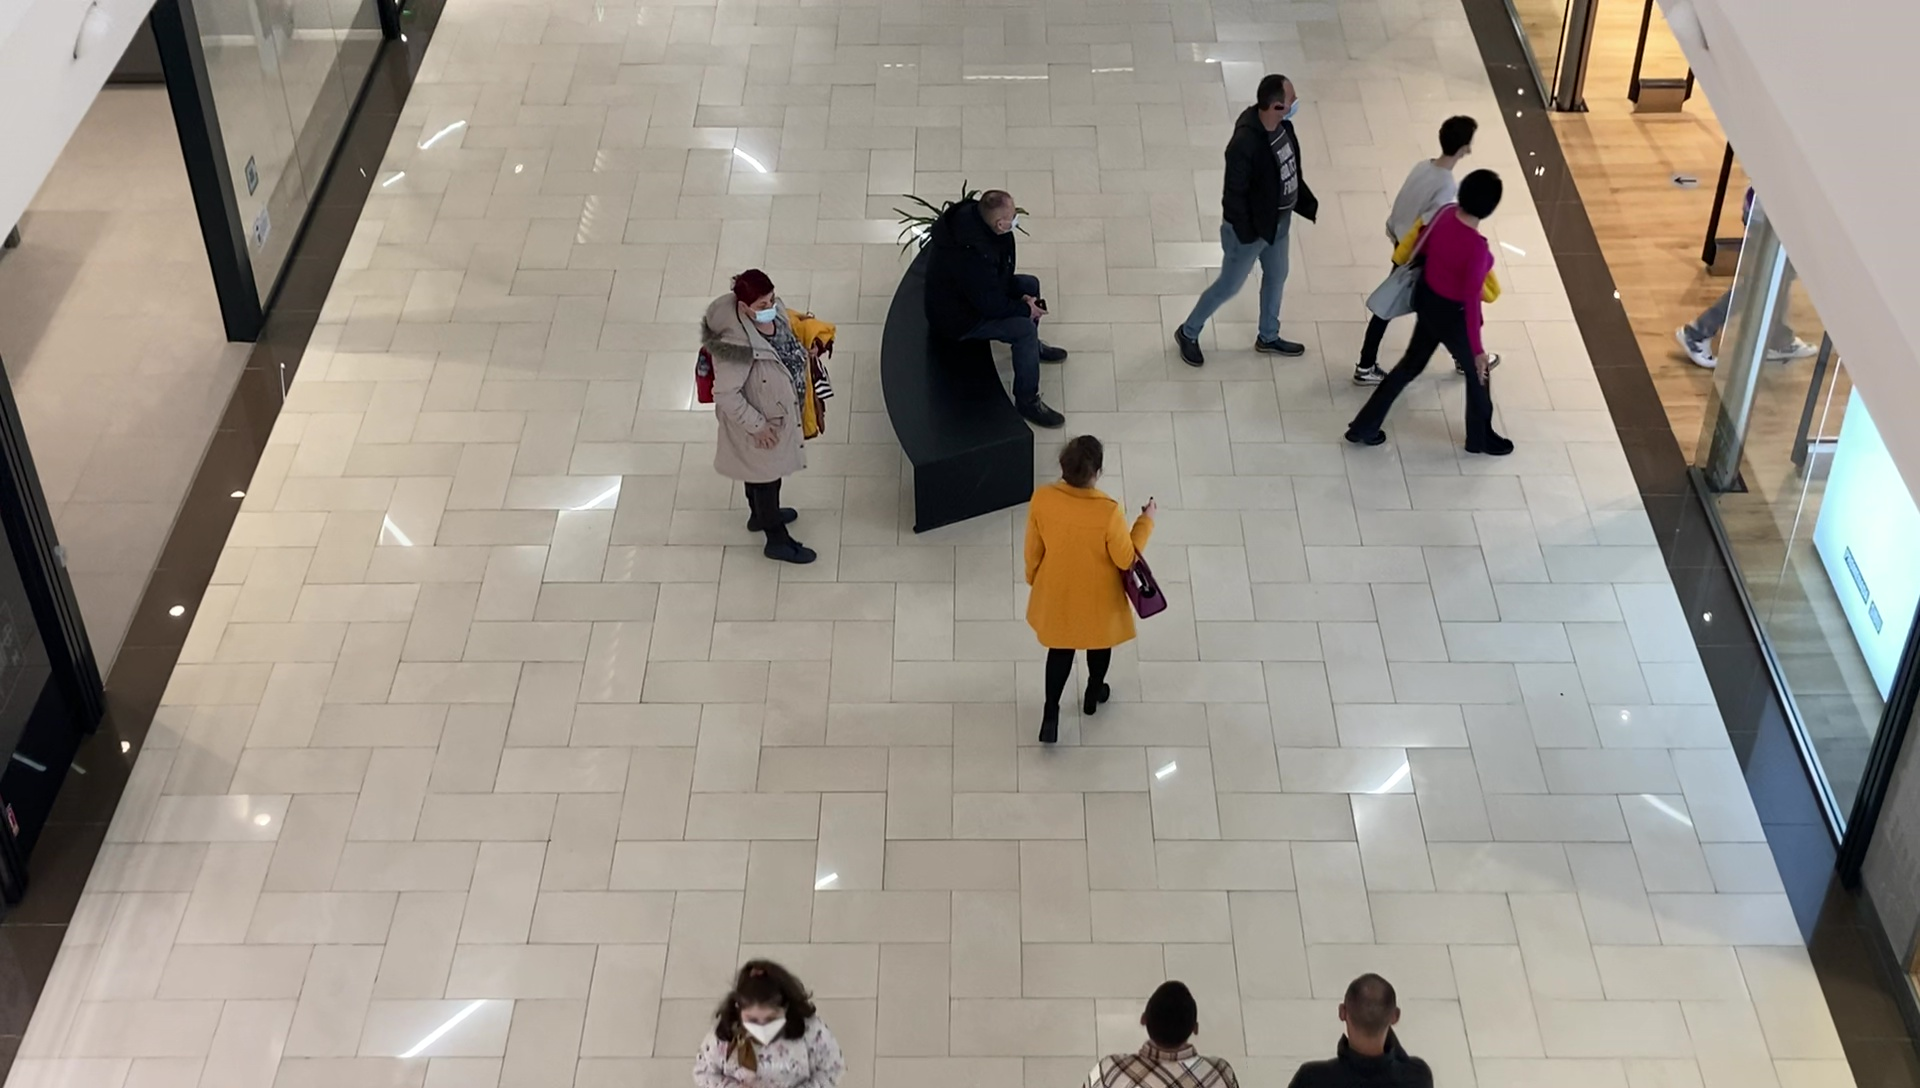person: (1348, 171, 1516, 457), (1177, 74, 1321, 368), (1024, 435, 1161, 745), (696, 269, 837, 563), (694, 959, 848, 1088), (1285, 973, 1435, 1088), (1085, 980, 1238, 1088), (1387, 115, 1479, 219)
